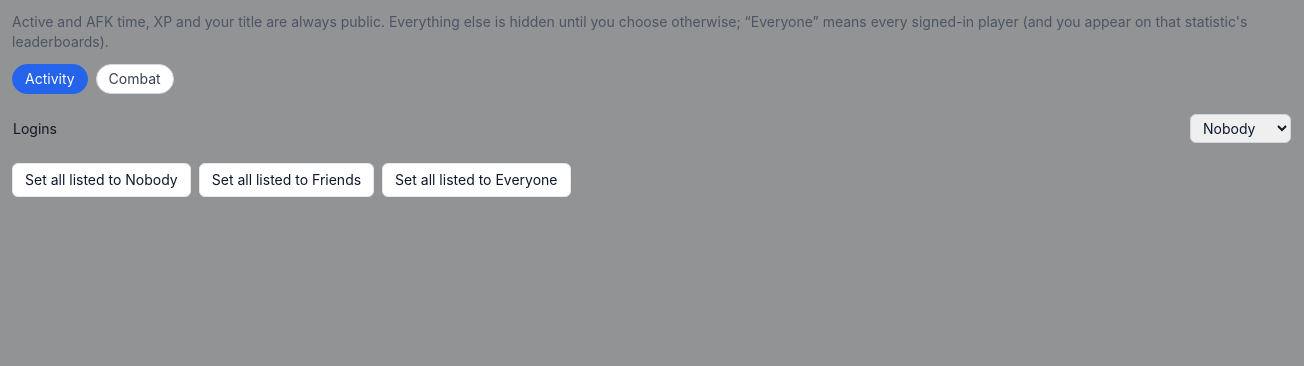
Test: StatisticsVisibilitySettings › lists the selected group with its context rows
Expected: the dropdown named "Logins" shows "Nobody", x1=1190 y1=114 x2=1291 y2=143
Click the tab "Combat" at (135, 79), box x1=96 y1=64 x2=174 y2=94
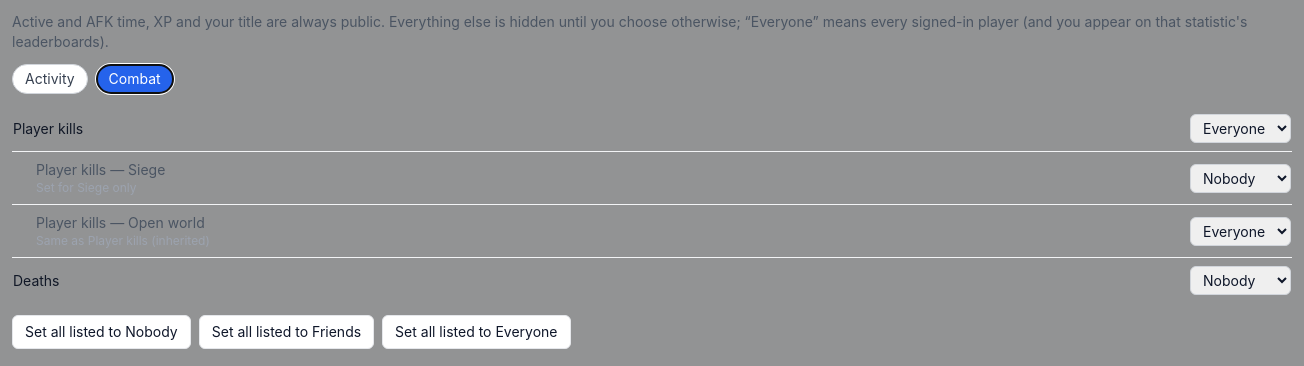
Expected: the dropdown named "Player kills" shows "Everyone", x1=1190 y1=114 x2=1291 y2=143
Expected: the text "Set for Siege only" is shown, x1=36 y1=180 x2=136 y2=195
Expected: the text "Same as Player kills (inherited)" is shown, x1=36 y1=233 x2=210 y2=248
